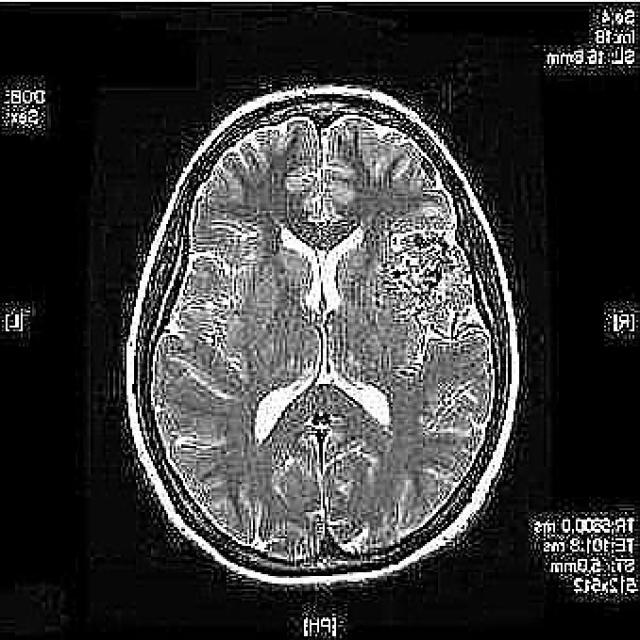notumor: (123, 87, 523, 589)
